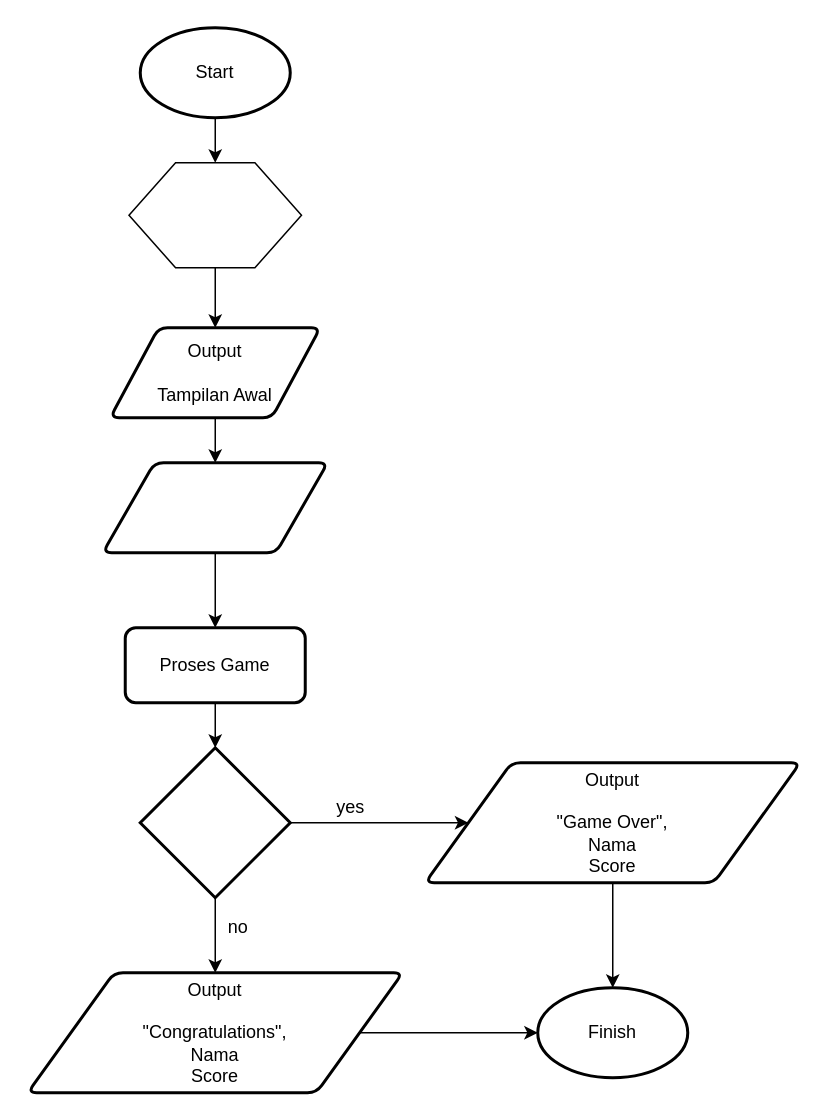
Image size: 827x1119. Some labels were removed from this diagram. The box of each missing label's shape, as (x1, y1, x2, y2) in pixels:
Input Nama: (100, 460, 328, 554)
Nama, Score: (128, 161, 302, 268)
player =? Dead: (138, 746, 291, 898)
